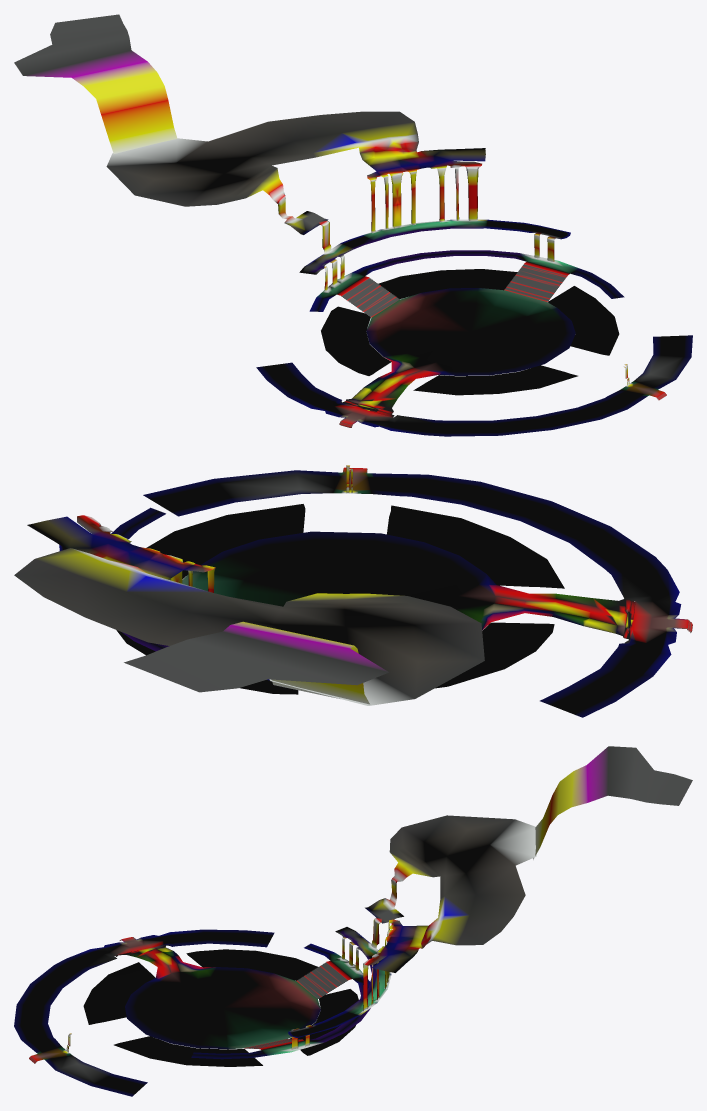
3 renders of one model, top to bottom at view 1: azimuth 30°, elevation 25°; view 2: azimuth 150°, elevation 25°; view 3: azimuth 270°, elevation 25°, orthographic. The views are drawn at different scales.
Parts seen in each view (by area): view 1: G:\FFXIV-MapTools\exports\d2f1\bg\ex1\02_dra_d2\fld\d2f1\bgp; view 2: G:\FFXIV-MapTools\exports\d2f1\bg\ex1\02_dra_d2\fld\d2f1\bgp; view 3: G:\FFXIV-MapTools\exports\d2f1\bg\ex1\02_dra_d2\fld\d2f1\bgp.
Boxes of the visible parts, x1,y1,x2,y2 form: G:\FFXIV-MapTools\exports\d2f1\bg\ex1\02_dra_d2\fld\d2f1\bgp: (14, 14, 692, 436); G:\FFXIV-MapTools\exports\d2f1\bg\ex1\02_dra_d2\fld\d2f1\bgp: (14, 465, 692, 717); G:\FFXIV-MapTools\exports\d2f1\bg\ex1\02_dra_d2\fld\d2f1\bgp: (14, 746, 692, 1096).
Size of the model in its own units: 232 by 95.15 by 353.
